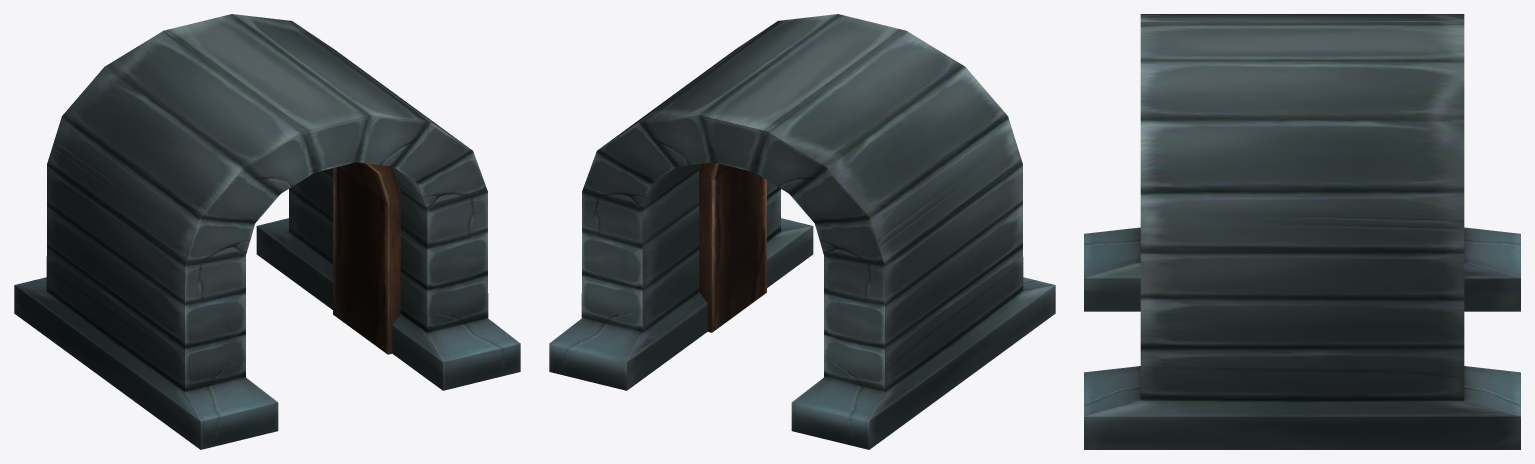
Rendered from prisonDoorStone.fbx.
3 renders of one model, left to right at view 1: azimuth 30°, elevation 25°; view 2: azimuth 150°, elevation 25°; view 3: azimuth 270°, elevation 25°, orthographic. The views are drawn at different scales.
Parts seen in each view (by area): view 1: prisonDoorStone; view 2: prisonDoorStone; view 3: prisonDoorStone.
Boxes of the visible parts, x1,y1,x2,y2 form: prisonDoorStone: (14,14,520,449); prisonDoorStone: (549,14,1055,449); prisonDoorStone: (1084,14,1520,449).
Size of the model in its own units: 0.1201 by 0.0968 by 0.1212.
